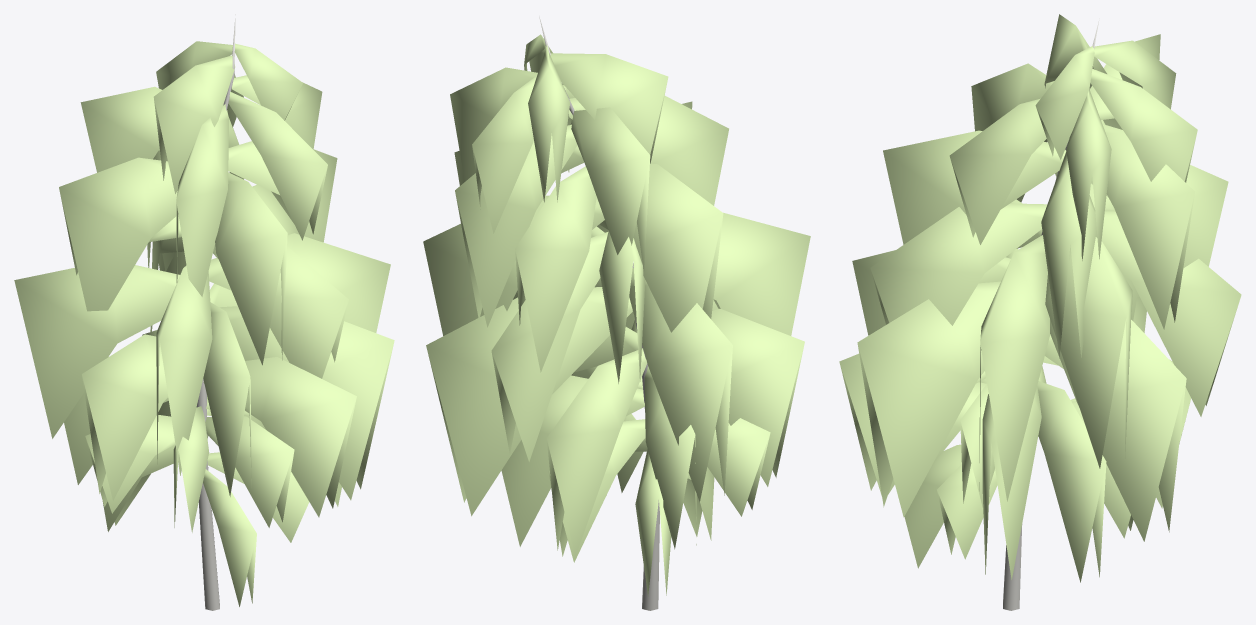
The model's file is birch_03.fbx.
3 renders of one model, left to right at view 1: azimuth 30°, elevation 25°; view 2: azimuth 150°, elevation 25°; view 3: azimuth 270°, elevation 25°, orthographic. The views are drawn at different scales.
Parts seen in each view (by area): view 1: Birch_03; view 2: Birch_03; view 3: Birch_03.
Boxes of the visible parts, left/top/right/bottom form: Birch_03: left=14, top=14, right=394, bottom=610; Birch_03: left=423, top=16, right=810, bottom=610; Birch_03: left=839, top=14, right=1241, bottom=610.
Size of the model in its own units: 234 by 408 by 239.
